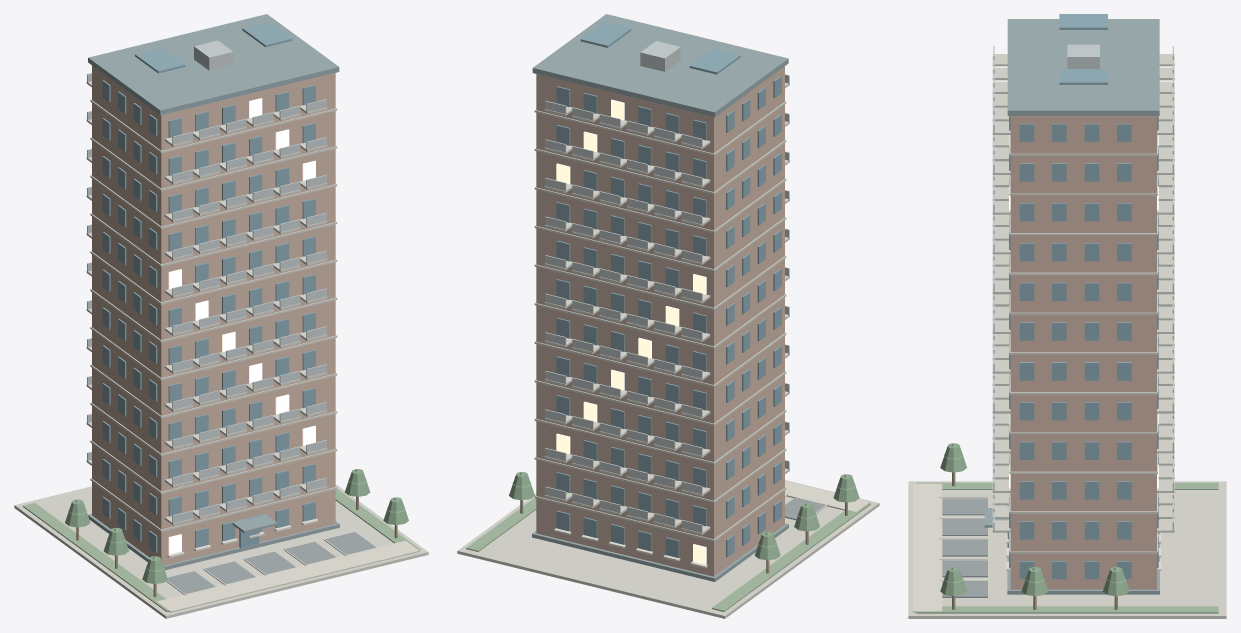
Rendered from remaster_apartment_1_high.glb.
The picture shows the model from 3 angles, left to right: view 1: azimuth 30°, elevation 25°; view 2: azimuth 150°, elevation 25°; view 3: azimuth 270°, elevation 25°; orthographic projection. The views are drawn at different scales.
Parts seen in each view (by area): view 1: remaster_apartment_1_high brick, remaster_apartment_1_high stone, remaster_apartment_1_high glass, remaster_apartment_1_high metal, remaster_apartment_1_high roof, remaster_apartment_1_high cream, remaster_apartment_1_high asphalt, remaster_apartment_1_high green, remaster_apartment_1_high leaf, remaster_apartment_1_high warm, remaster_apartment_1_high white; view 2: remaster_apartment_1_high brick, remaster_apartment_1_high stone, remaster_apartment_1_high glass, remaster_apartment_1_high metal, remaster_apartment_1_high roof, remaster_apartment_1_high green, remaster_apartment_1_high warm, remaster_apartment_1_high leaf, remaster_apartment_1_high cream; view 3: remaster_apartment_1_high brick, remaster_apartment_1_high stone, remaster_apartment_1_high glass, remaster_apartment_1_high roof, remaster_apartment_1_high cream, remaster_apartment_1_high asphalt, remaster_apartment_1_high green, remaster_apartment_1_high metal, remaster_apartment_1_high leaf, remaster_apartment_1_high white.
Part boxes in pixels (left/top/right/bottom): remaster_apartment_1_high brick: left=92, top=65, right=335, bottom=565; remaster_apartment_1_high stone: left=14, top=72, right=428, bottom=618; remaster_apartment_1_high glass: left=102, top=22, right=315, bottom=552; remaster_apartment_1_high metal: left=87, top=40, right=326, bottom=523; remaster_apartment_1_high roof: left=88, top=14, right=339, bottom=570; remaster_apartment_1_high cream: left=156, top=540, right=419, bottom=612; remaster_apartment_1_high asphalt: left=166, top=532, right=376, bottom=594; remaster_apartment_1_high green: left=23, top=489, right=419, bottom=611; remaster_apartment_1_high leaf: left=65, top=469, right=408, bottom=583; remaster_apartment_1_high warm: left=168, top=98, right=315, bottom=554; remaster_apartment_1_high white: left=166, top=518, right=346, bottom=595; remaster_apartment_1_high brick: left=536, top=66, right=784, bottom=576; remaster_apartment_1_high stone: left=457, top=73, right=879, bottom=618; remaster_apartment_1_high glass: left=556, top=22, right=781, bottom=557; remaster_apartment_1_high metal: left=545, top=41, right=789, bottom=533; remaster_apartment_1_high roof: left=532, top=14, right=788, bottom=581; remaster_apartment_1_high green: left=466, top=498, right=870, bottom=611; remaster_apartment_1_high warm: left=556, top=99, right=706, bottom=564; remaster_apartment_1_high leaf: left=509, top=472, right=859, bottom=560; remaster_apartment_1_high cream: left=785, top=481, right=870, bottom=512; remaster_apartment_1_high brick: left=1010, top=116, right=1156, bottom=589; remaster_apartment_1_high stone: left=908, top=54, right=1226, bottom=618; remaster_apartment_1_high glass: left=1007, top=14, right=1158, bottom=579; remaster_apartment_1_high roof: left=984, top=19, right=1159, bottom=594; remaster_apartment_1_high cream: left=913, top=483, right=942, bottom=612; remaster_apartment_1_high asphalt: left=942, top=498, right=987, bottom=597; remaster_apartment_1_high green: left=916, top=482, right=1218, bottom=613; remaster_apartment_1_high metal: left=993, top=44, right=1173, bottom=531; remaster_apartment_1_high leaf: left=940, top=443, right=1129, bottom=596; remaster_apartment_1_high white: left=939, top=497, right=1161, bottom=580.
Size of the model in its own units: 19.65 by 34.17 by 19.6.
